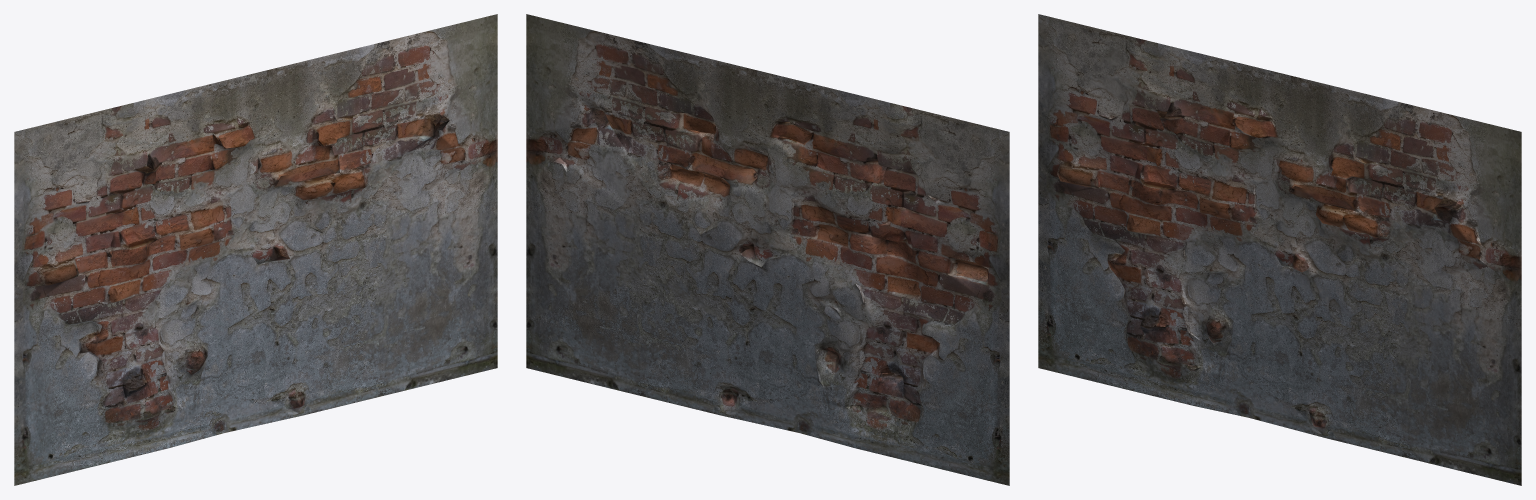
File: SM_ChapelWall_03_02.fbx
3 views of the same model, side by side, from view 1: azimuth 30°, elevation 25°; view 2: azimuth 150°, elevation 25°; view 3: azimuth 330°, elevation 25° (orthographic).
Visible parts, largest first — view 1: sm_ChapelWall_03_02_LOD0; view 2: sm_ChapelWall_03_02_LOD0; view 3: sm_ChapelWall_03_02_LOD0.
Part boxes in pixels (x1,y1,x2,y2): sm_ChapelWall_03_02_LOD0: (14, 14, 497, 485); sm_ChapelWall_03_02_LOD0: (526, 14, 1009, 485); sm_ChapelWall_03_02_LOD0: (1038, 14, 1521, 485).
Bounding box in the file's own units: 14.26 × 250 × 175.
